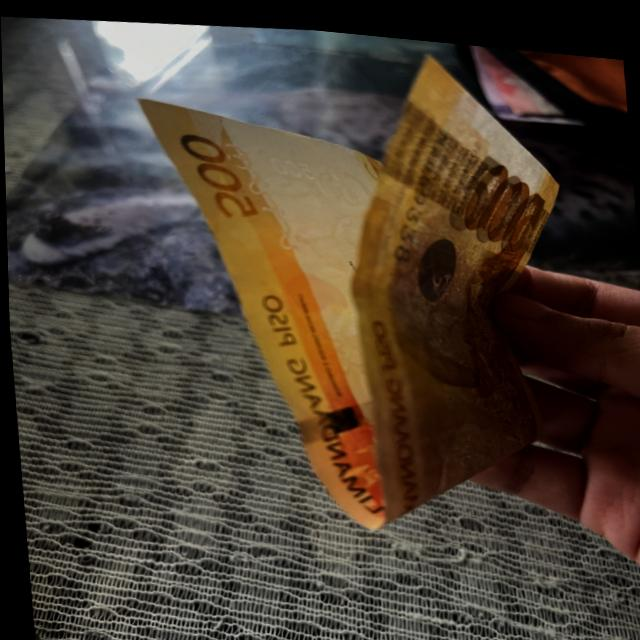see_through_mark: (216, 135, 310, 249)
value_watermark: (266, 146, 315, 178)
